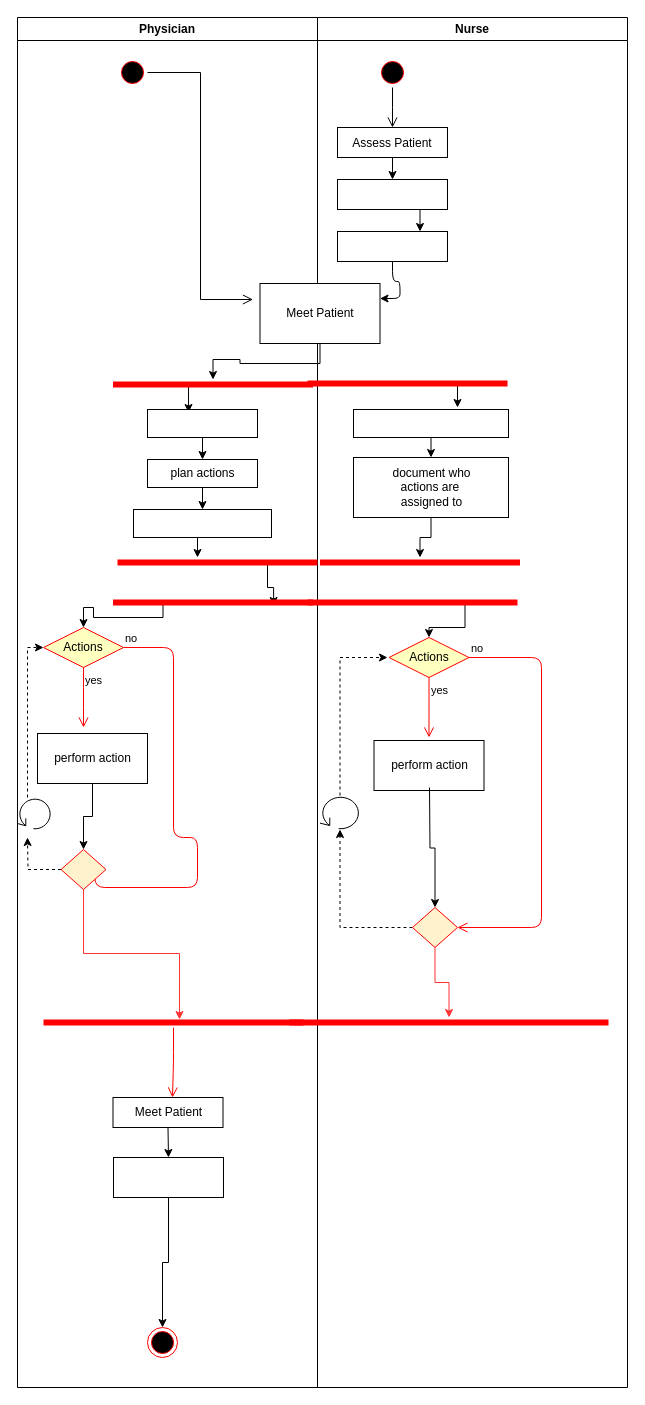
This 645x1405 diagram has some shape labels left out. Each missing label, with the centre of its shape:
access patient: the point at 202,423
allocate room: the point at 392,246
assign delegate actions: the point at 202,523
document action plan: the point at 430,423
Inform patient of overall health: the point at 168,1177
Register Patient: the point at 392,194
